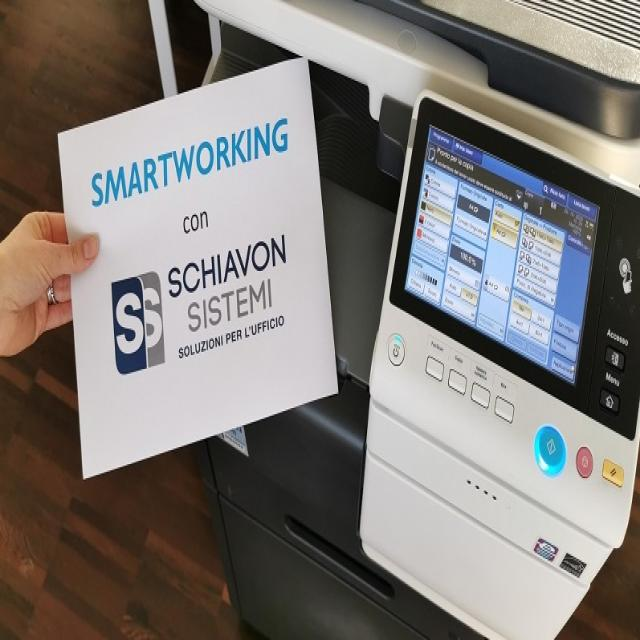printer: (188, 0, 638, 638)
